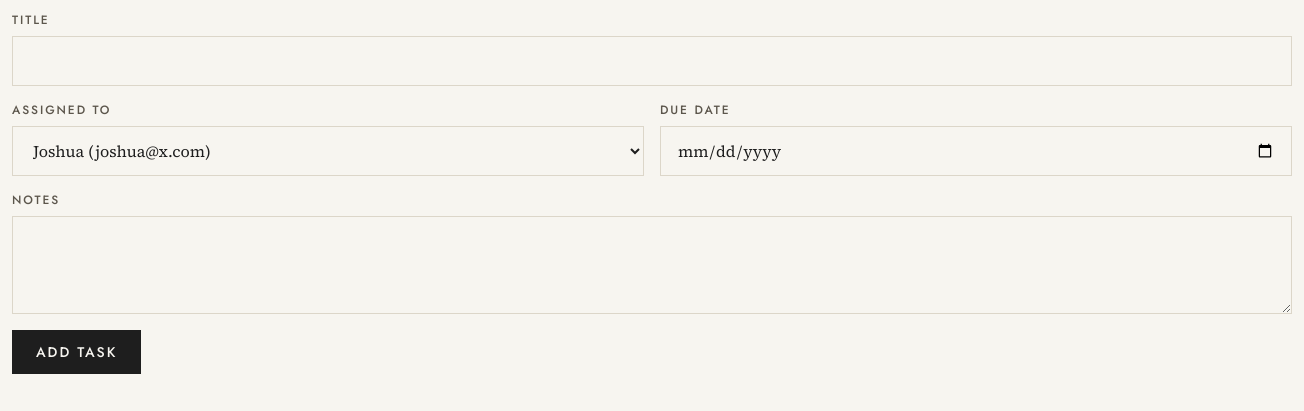
Scenario: TaskForm › shows a saved notice as status, not as an error
The width and height of the screenshot is (1304, 411).
Type "Flyers" into the field labelled "Title" at (652, 61), box [12, 36, 1292, 86]
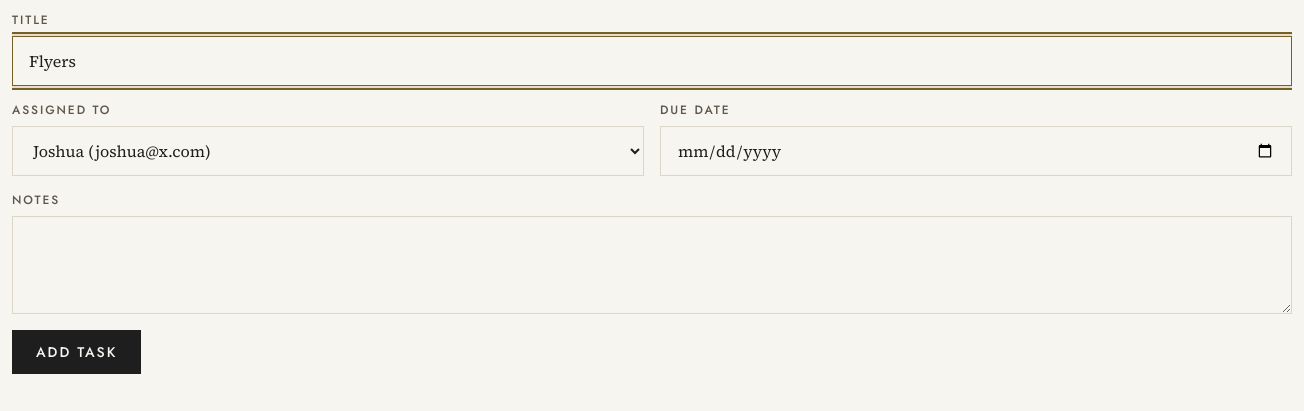
Click the button "Add task" at (77, 352), box [12, 330, 141, 374]
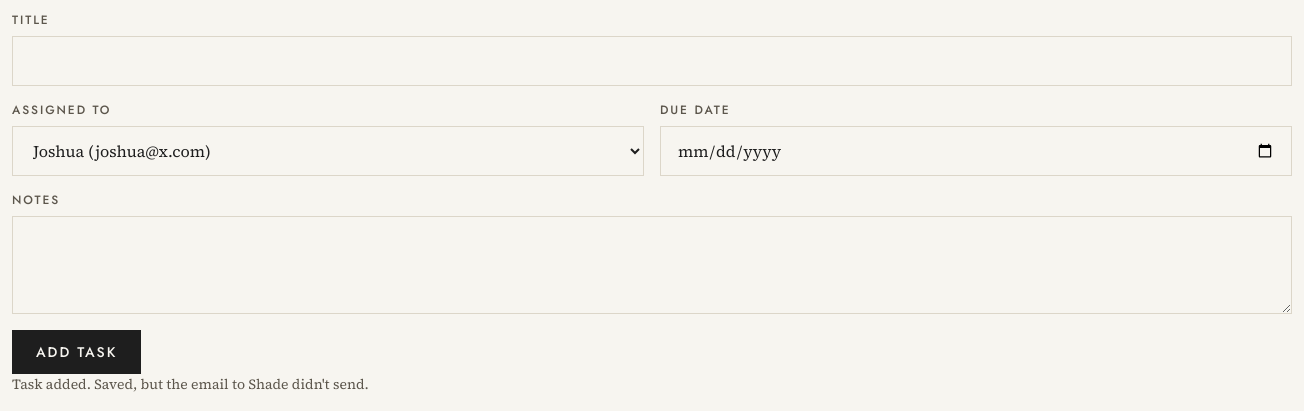
expect the message reads "Task added. Saved, but the email to Shade didn't send.": met, box [12, 374, 369, 394]
